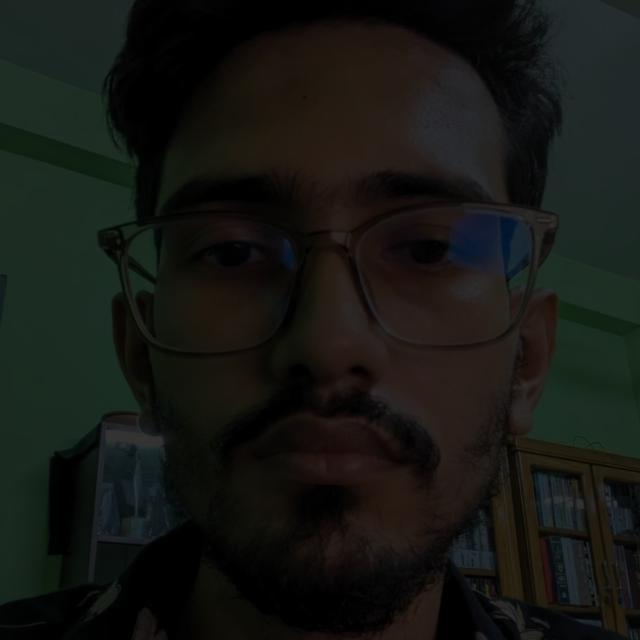Sad: (100, 67, 564, 564)
